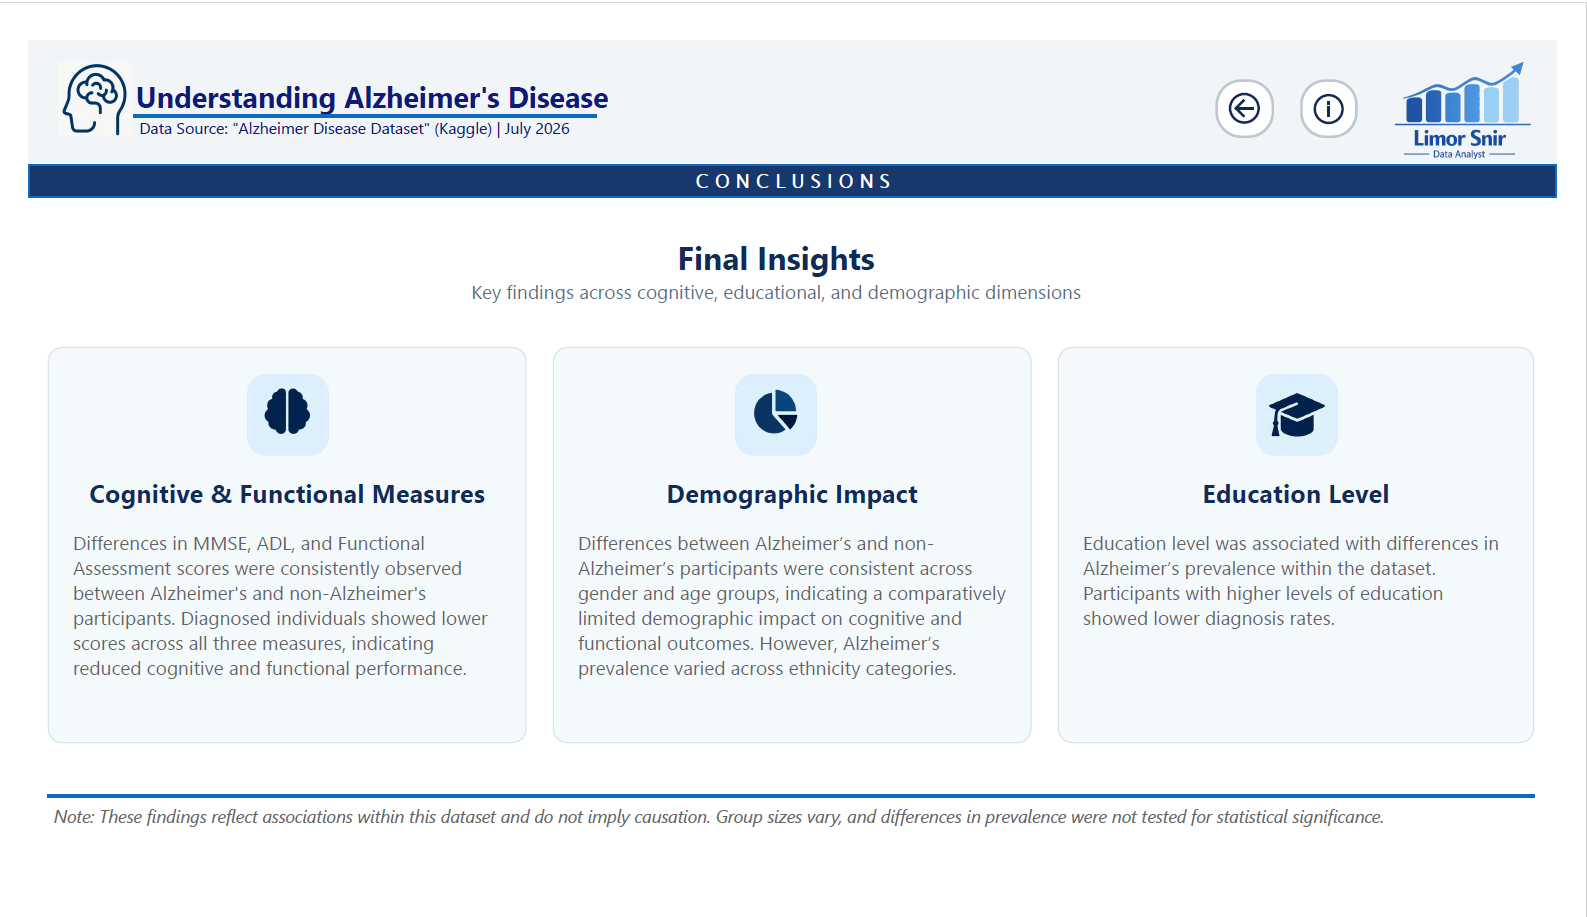

What the dashboard file says about the page in this screenshot:
{"tool":"powerbi","page":{"name":"Conclusion","canvas":[1280,720],"ordinal":3},"visuals":[{"type":"textbox","title":"main TITLE","box":[0,7.1,1280,108.3],"z":0},{"type":"shape","title":"Title Line","box":[0,79.8,1280,69.8],"z":1000},{"type":"shape","title":"General Legend","box":[87.7,0,388.2,140.5],"z":2000},{"type":"actionButton","box":[994.2,40.4,48.9,48.9],"z":3000},{"type":"actionButton","box":[1065.1,40.4,48,48.9],"z":4000},{"type":"image","box":[1129.7,18.1,141.9,93.2],"z":5000},{"type":"image","title":"Alz IMAGE","box":[15.9,19.6,78.3,73.4],"z":7000},{"type":"shape","title":"Page Title","box":[0,110.9,1280,28.4],"z":8000},{"type":"textbox","box":[15.9,264.1,401.1,331.4],"z":13000},{"type":"textbox","box":[862.1,264.1,398.6,331.4],"z":14000},{"type":"textbox","box":[439,264.1,401.1,331.4],"z":15000},{"type":"textbox","box":[100.5,166.3,1050.1,83.2],"z":16000},{"type":"image","box":[463.5,282.5,325.3,77],"z":17000},{"type":"image","box":[53.8,282.5,325.3,77],"z":18000},{"type":"image","box":[477.5,282.7,296.4,74.1],"z":19000},{"type":"image","box":[117.9,288,197.4,62.1],"z":20000},{"type":"image","box":[572.2,290.9,107,57.6],"z":21000},{"type":"image","box":[929.4,282.5,265.4,77],"z":22000},{"type":"image","box":[995.4,288.6,134.5,68.5],"z":23000},{"type":"textbox","box":[15.9,642,1245,62.2],"z":24000},{"type":"shape","box":[15.9,559.6,1245,160.5],"z":25000}]}

Visuals, with their boxes in screenshot pixels (x1, y1, x2, y2), scaled from the page's 1280x720 canvas onto the 1587x917 screenshot:
"main TITLE" textbox: 0:9:1586:147
"Title Line" shape: 0:102:1586:191
"General Legend" shape: 109:0:590:179
actionButton: 1233:51:1293:114
actionButton: 1321:51:1380:114
image: 1401:23:1577:142
"Alz IMAGE" image: 20:25:117:118
"Page Title" shape: 0:141:1586:177
textbox: 20:336:517:758
textbox: 1069:336:1563:758
textbox: 544:336:1042:758
textbox: 125:212:1427:318
image: 575:360:978:458
image: 67:360:470:458
image: 592:360:960:454
image: 146:367:391:446
image: 709:370:842:444
image: 1152:360:1481:458
image: 1234:368:1401:455
textbox: 20:818:1563:897
shape: 20:713:1563:916
